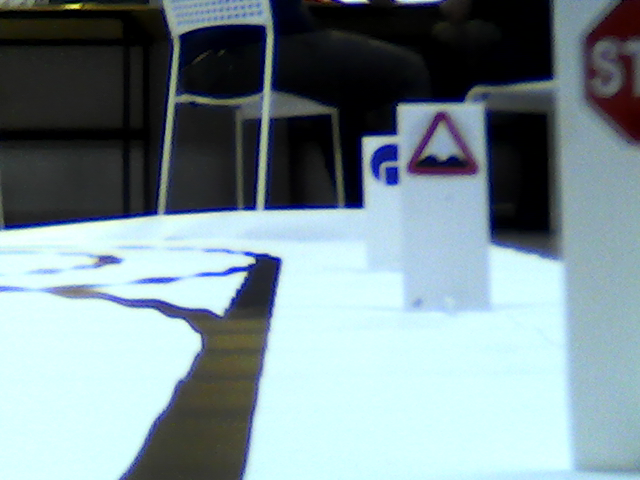Nerov: (409, 112, 479, 175)
Right: (368, 142, 403, 184)
